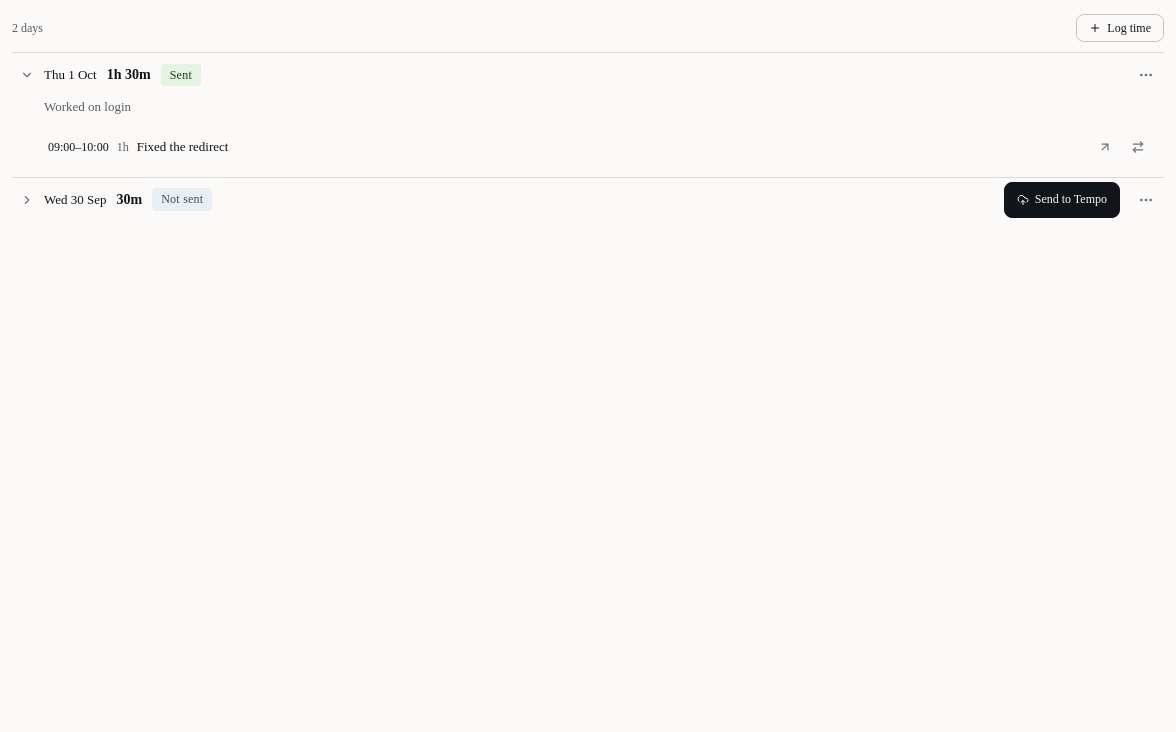
Test: log time › chips set the length and the button names it
Check: the text "2 days" is shown, box [12,19,43,37]
Click the button "Log time" at (1120, 28), box [1076,14,1164,42]
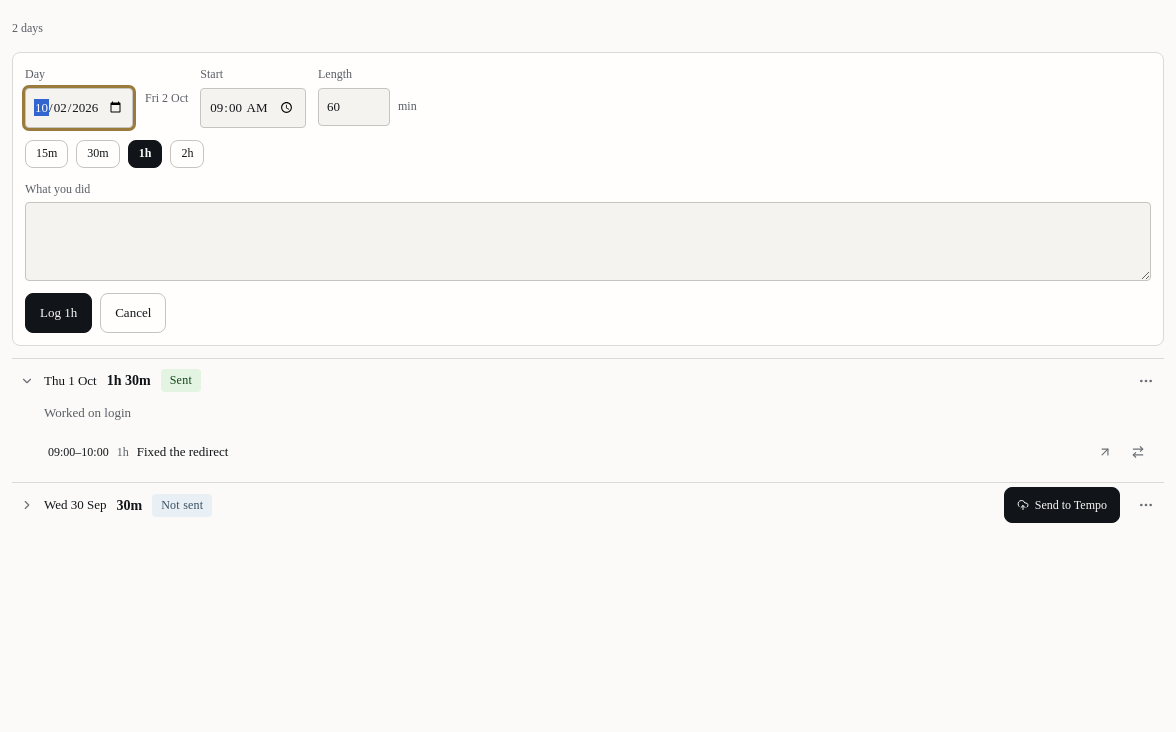
Click the button "2h" at (187, 154), box [170,140,204,168]
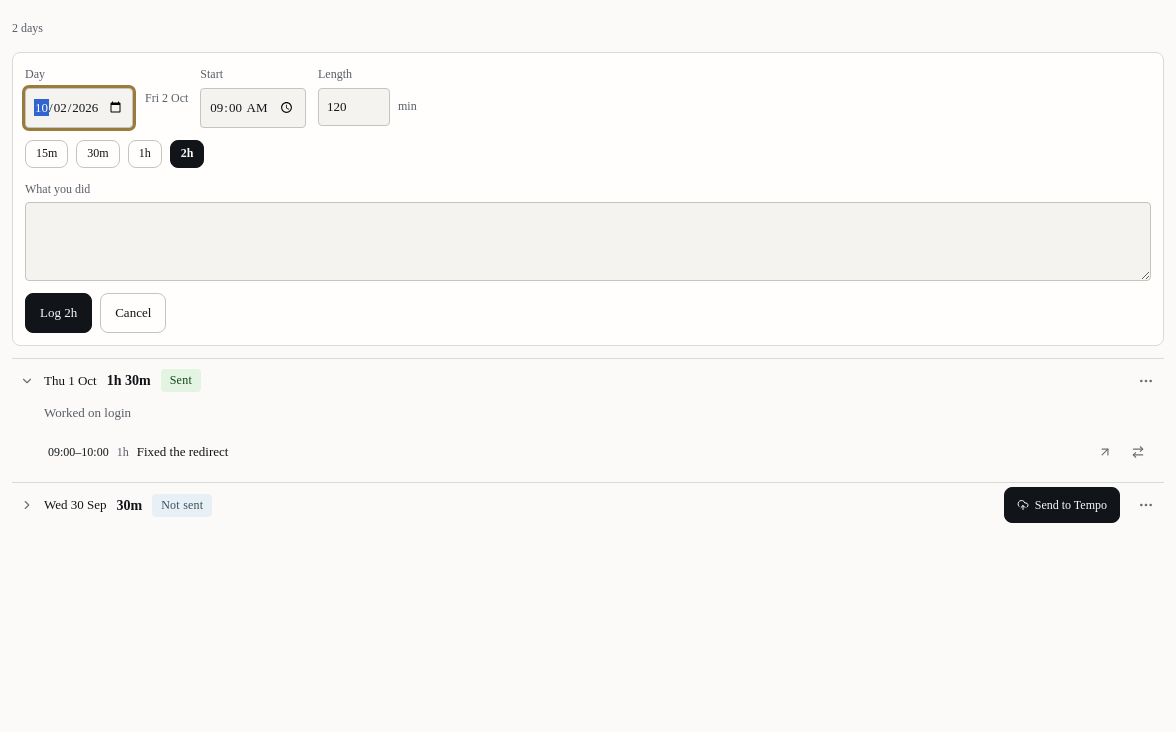
Check: the number field labelled "Length" holds "120", box [318,88,390,126]
Check: the button "Log 2h" is shown, box [25,293,92,333]
